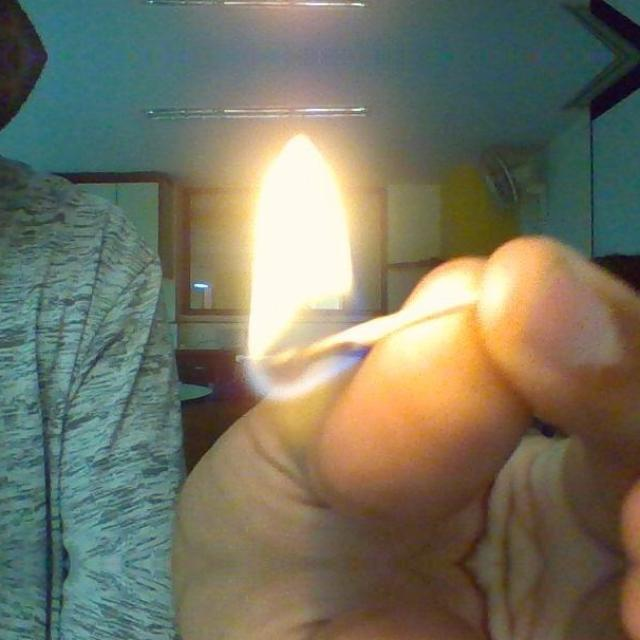smoke: (234, 132, 385, 400)
